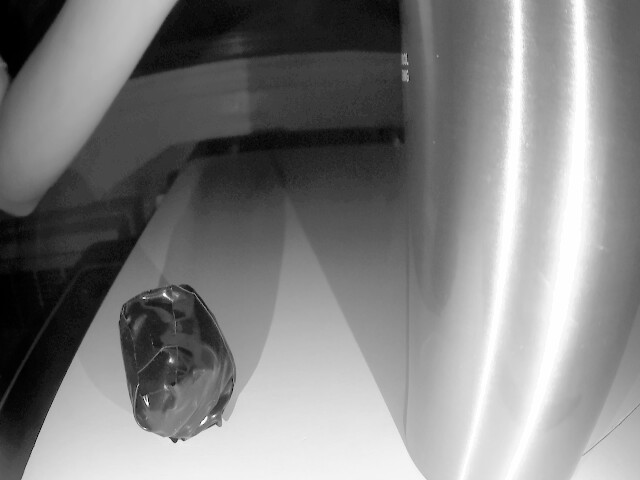silver: (102, 281, 261, 442)
